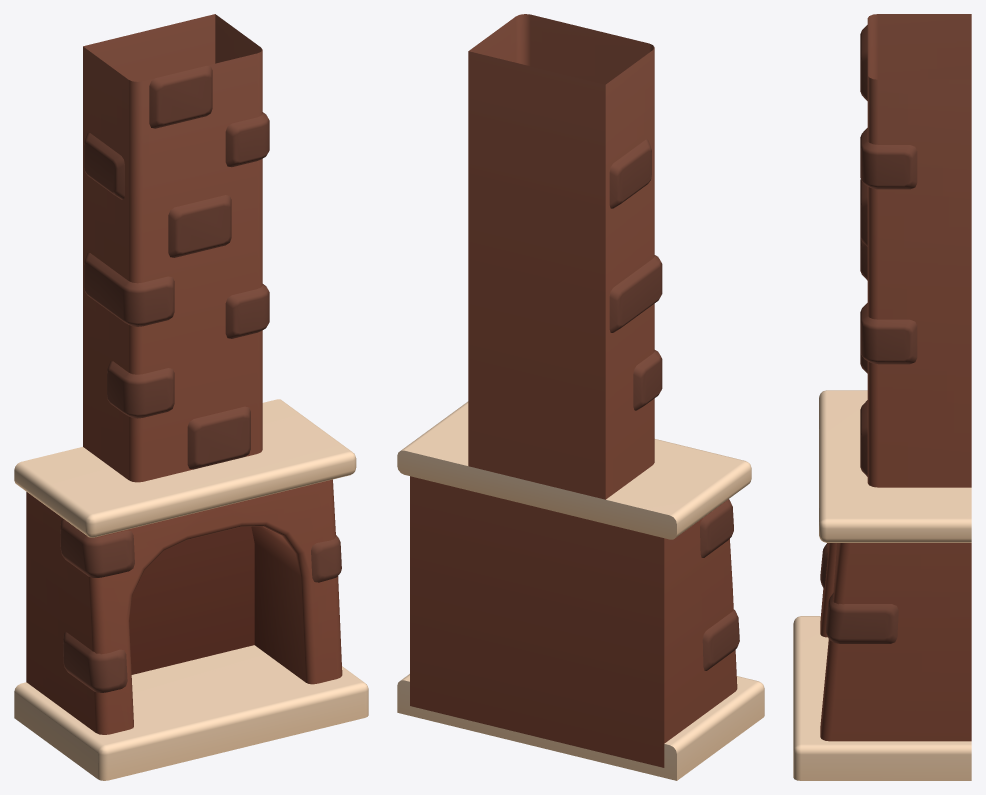
File: Fireplace_001.fbx
The picture shows the model from 3 angles, left to right: view 1: azimuth 30°, elevation 25°; view 2: azimuth 150°, elevation 25°; view 3: azimuth 270°, elevation 25°; orthographic projection. The views are drawn at different scales.
Visible parts, largest first — view 1: Fireplace_001; view 2: Fireplace_001; view 3: Fireplace_001.
Part boxes in pixels (x1,y1,x2,y2): Fireplace_001: [14, 14, 368, 780]; Fireplace_001: [397, 14, 764, 780]; Fireplace_001: [793, 14, 971, 780].
Bounding box in the file's own units: 1.34 × 3.11 × 0.7534.
